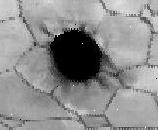good_void: (39, 24, 112, 90)
